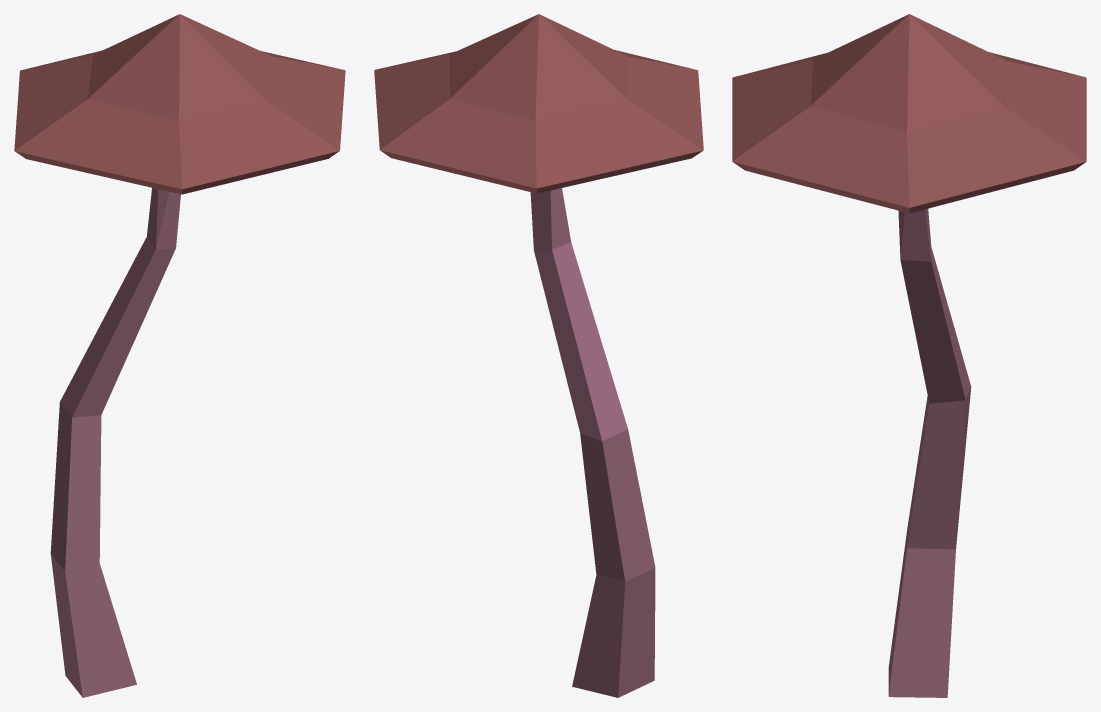
Rendered from Mushroom-C04.fbx.
3 renders of one model, left to right at view 1: azimuth 30°, elevation 25°; view 2: azimuth 150°, elevation 25°; view 3: azimuth 270°, elevation 25°, orthographic. The views are drawn at different scales.
Parts seen in each view (by area): view 1: Mushroom-C04; view 2: Mushroom-C04; view 3: Mushroom-C04.
Part boxes in pixels (x1,y1,x2,y2): Mushroom-C04: (14, 14, 345, 697); Mushroom-C04: (374, 14, 703, 697); Mushroom-C04: (732, 14, 1086, 697).
Size of the model in its own units: 56.58 by 106 by 48.01.
